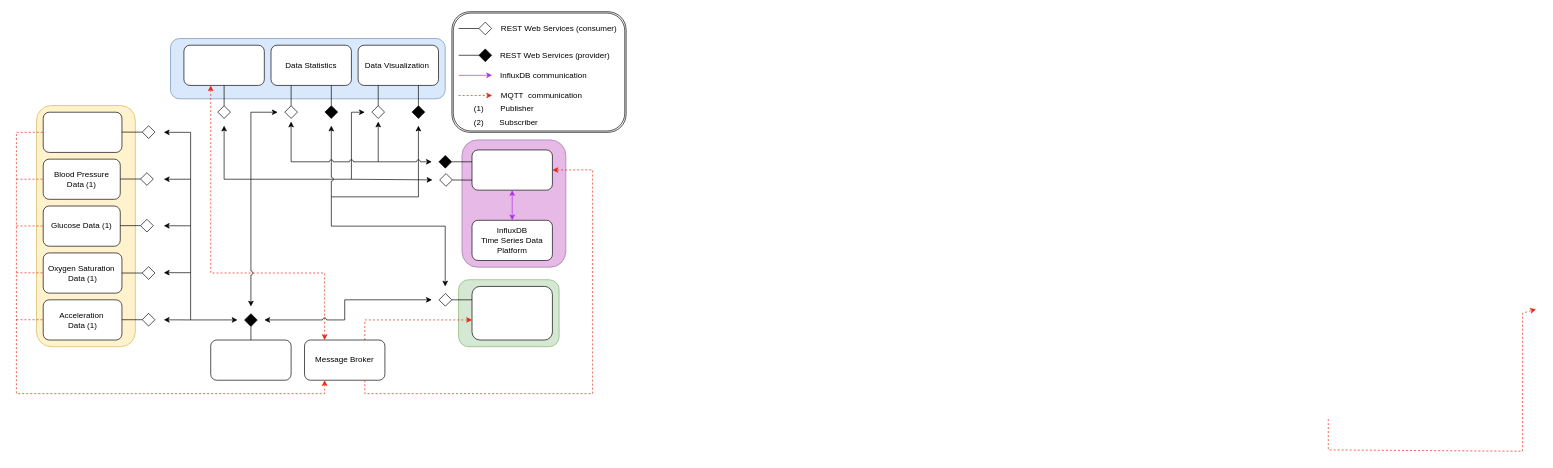
This 1553x468 diagram has some shape labels left out. Each missing label, with the centre of its shape:
Data Alerter (1, 2): point 223,65
Home Catalog: point 250,359
InfluxDB Connector: point 511,169
Telegram bot (2): point 511,313
Temperature Data (1): point 82,132
